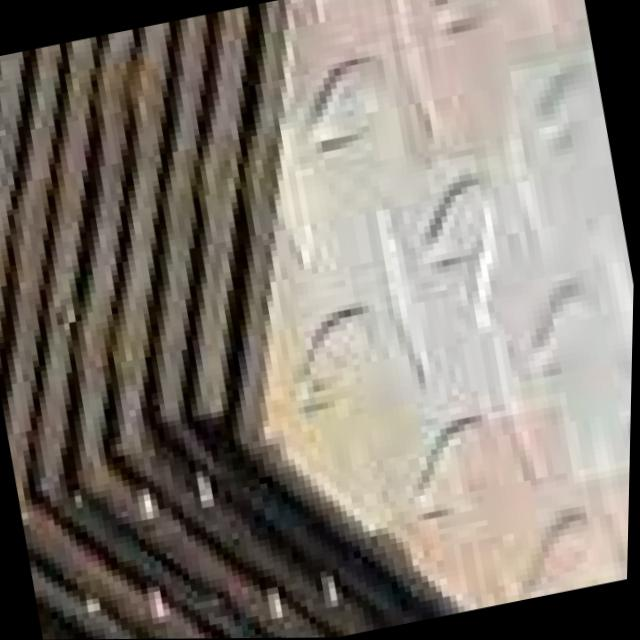metal-plates: (274, 1, 636, 612)
